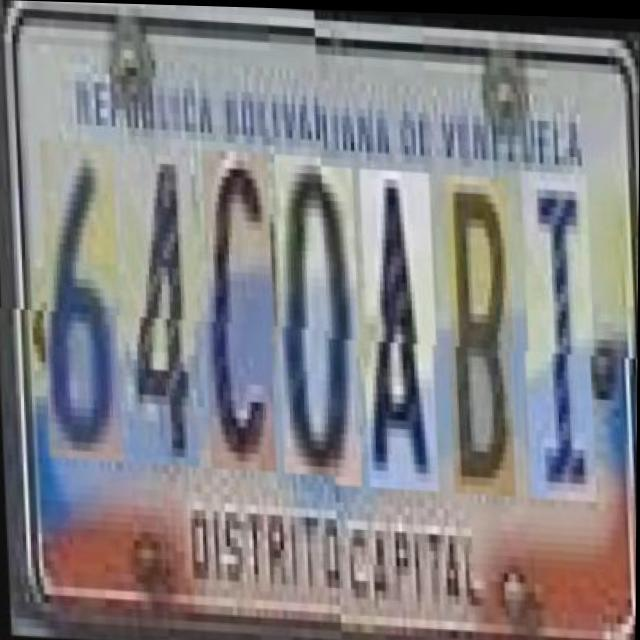4: (117, 151, 202, 473)
6: (36, 146, 124, 469)
a: (355, 163, 440, 485)
b: (441, 167, 518, 489)
c: (198, 155, 279, 477)
i: (517, 163, 598, 495)
o: (270, 159, 363, 481)
